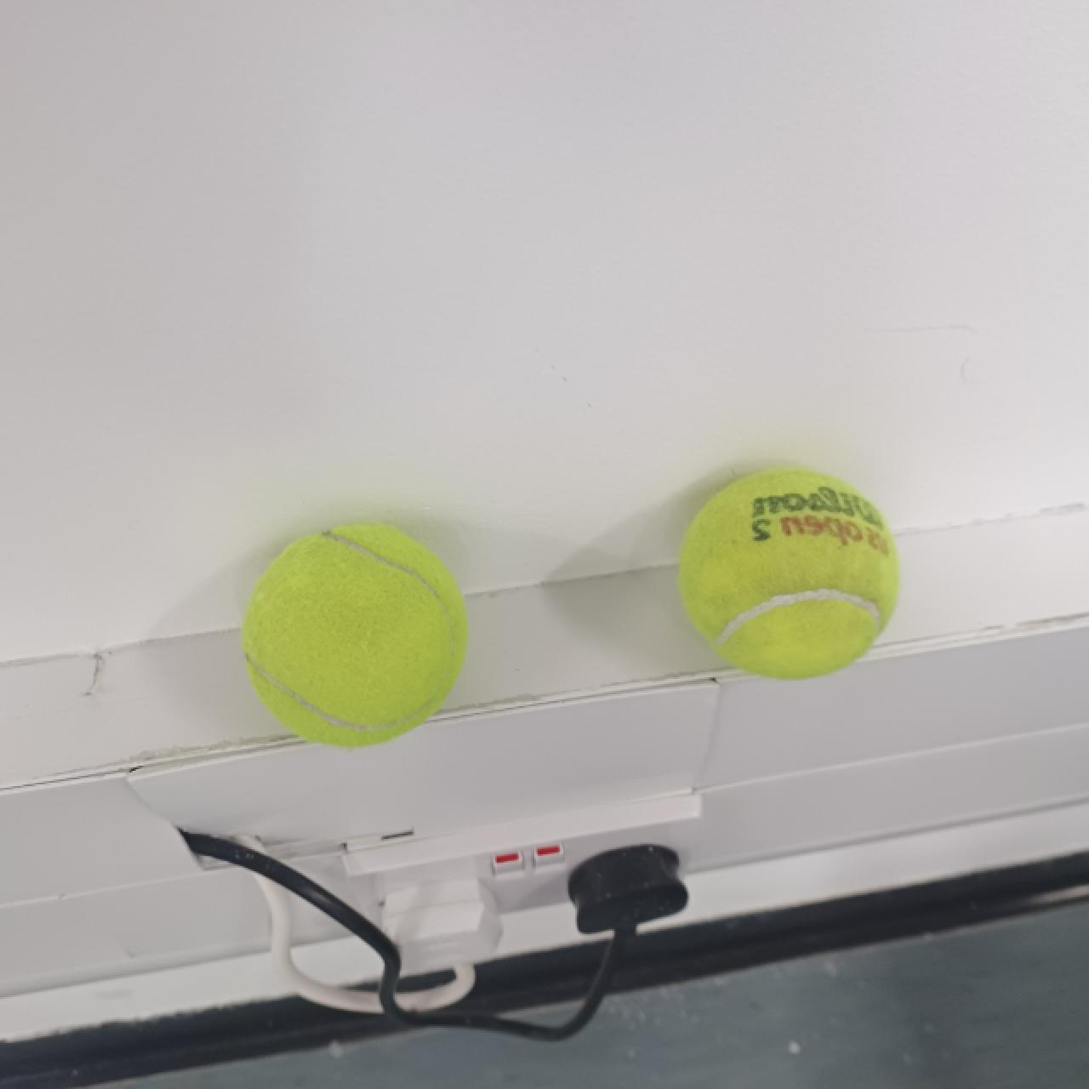tennis-ball: (240, 523, 466, 747), (678, 461, 901, 684)
